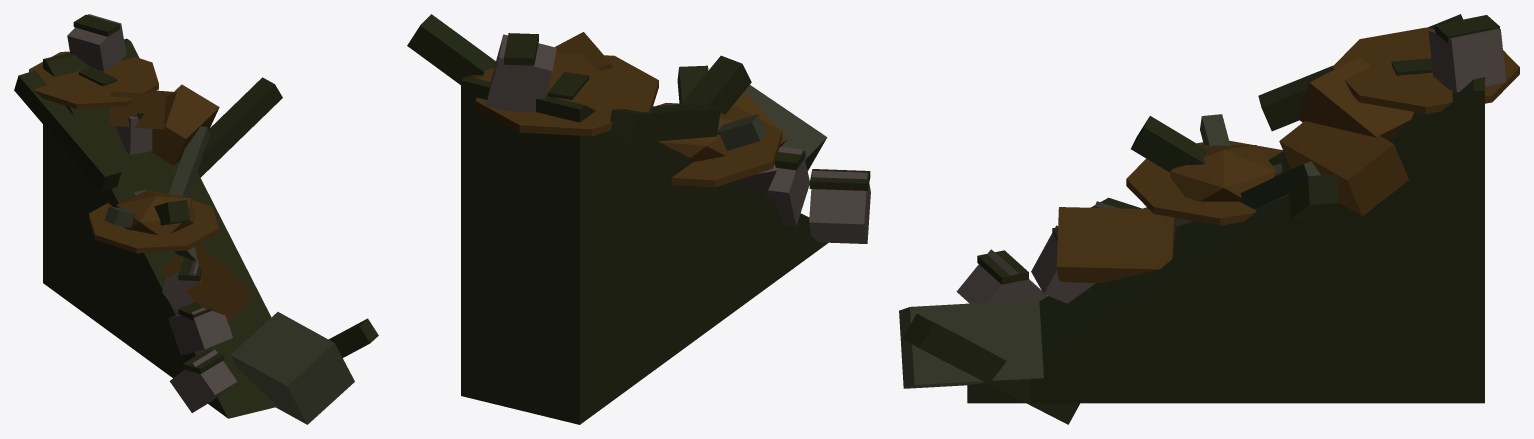
File: SM_PilaZombi_Altura2_s2_LOD0.fbx
3 views of the same model, side by side, from view 1: azimuth 30°, elevation 25°; view 2: azimuth 150°, elevation 25°; view 3: azimuth 270°, elevation 25° (orthographic). The views are drawn at different scales.
Parts seen in each view (by area): view 1: SM_pila_zombis_v11_LOD0; view 2: SM_pila_zombis_v11_LOD0; view 3: SM_pila_zombis_v11_LOD0.
Part boxes in pixels (box(x1,y1,x2,y2)): SM_pila_zombis_v11_LOD0: box(14, 14, 378, 424); SM_pila_zombis_v11_LOD0: box(407, 14, 870, 424); SM_pila_zombis_v11_LOD0: box(899, 14, 1519, 424).
Size of the model in its own units: 1.35 by 1.63 by 2.38.
